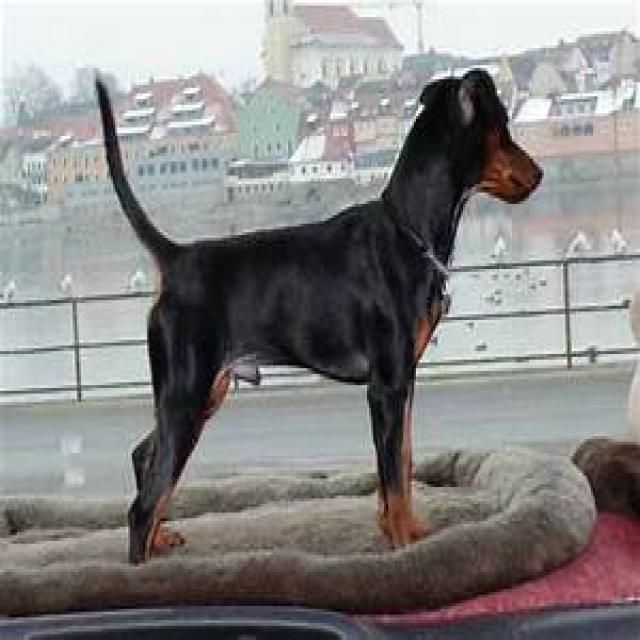animal: (96, 66, 544, 559)
